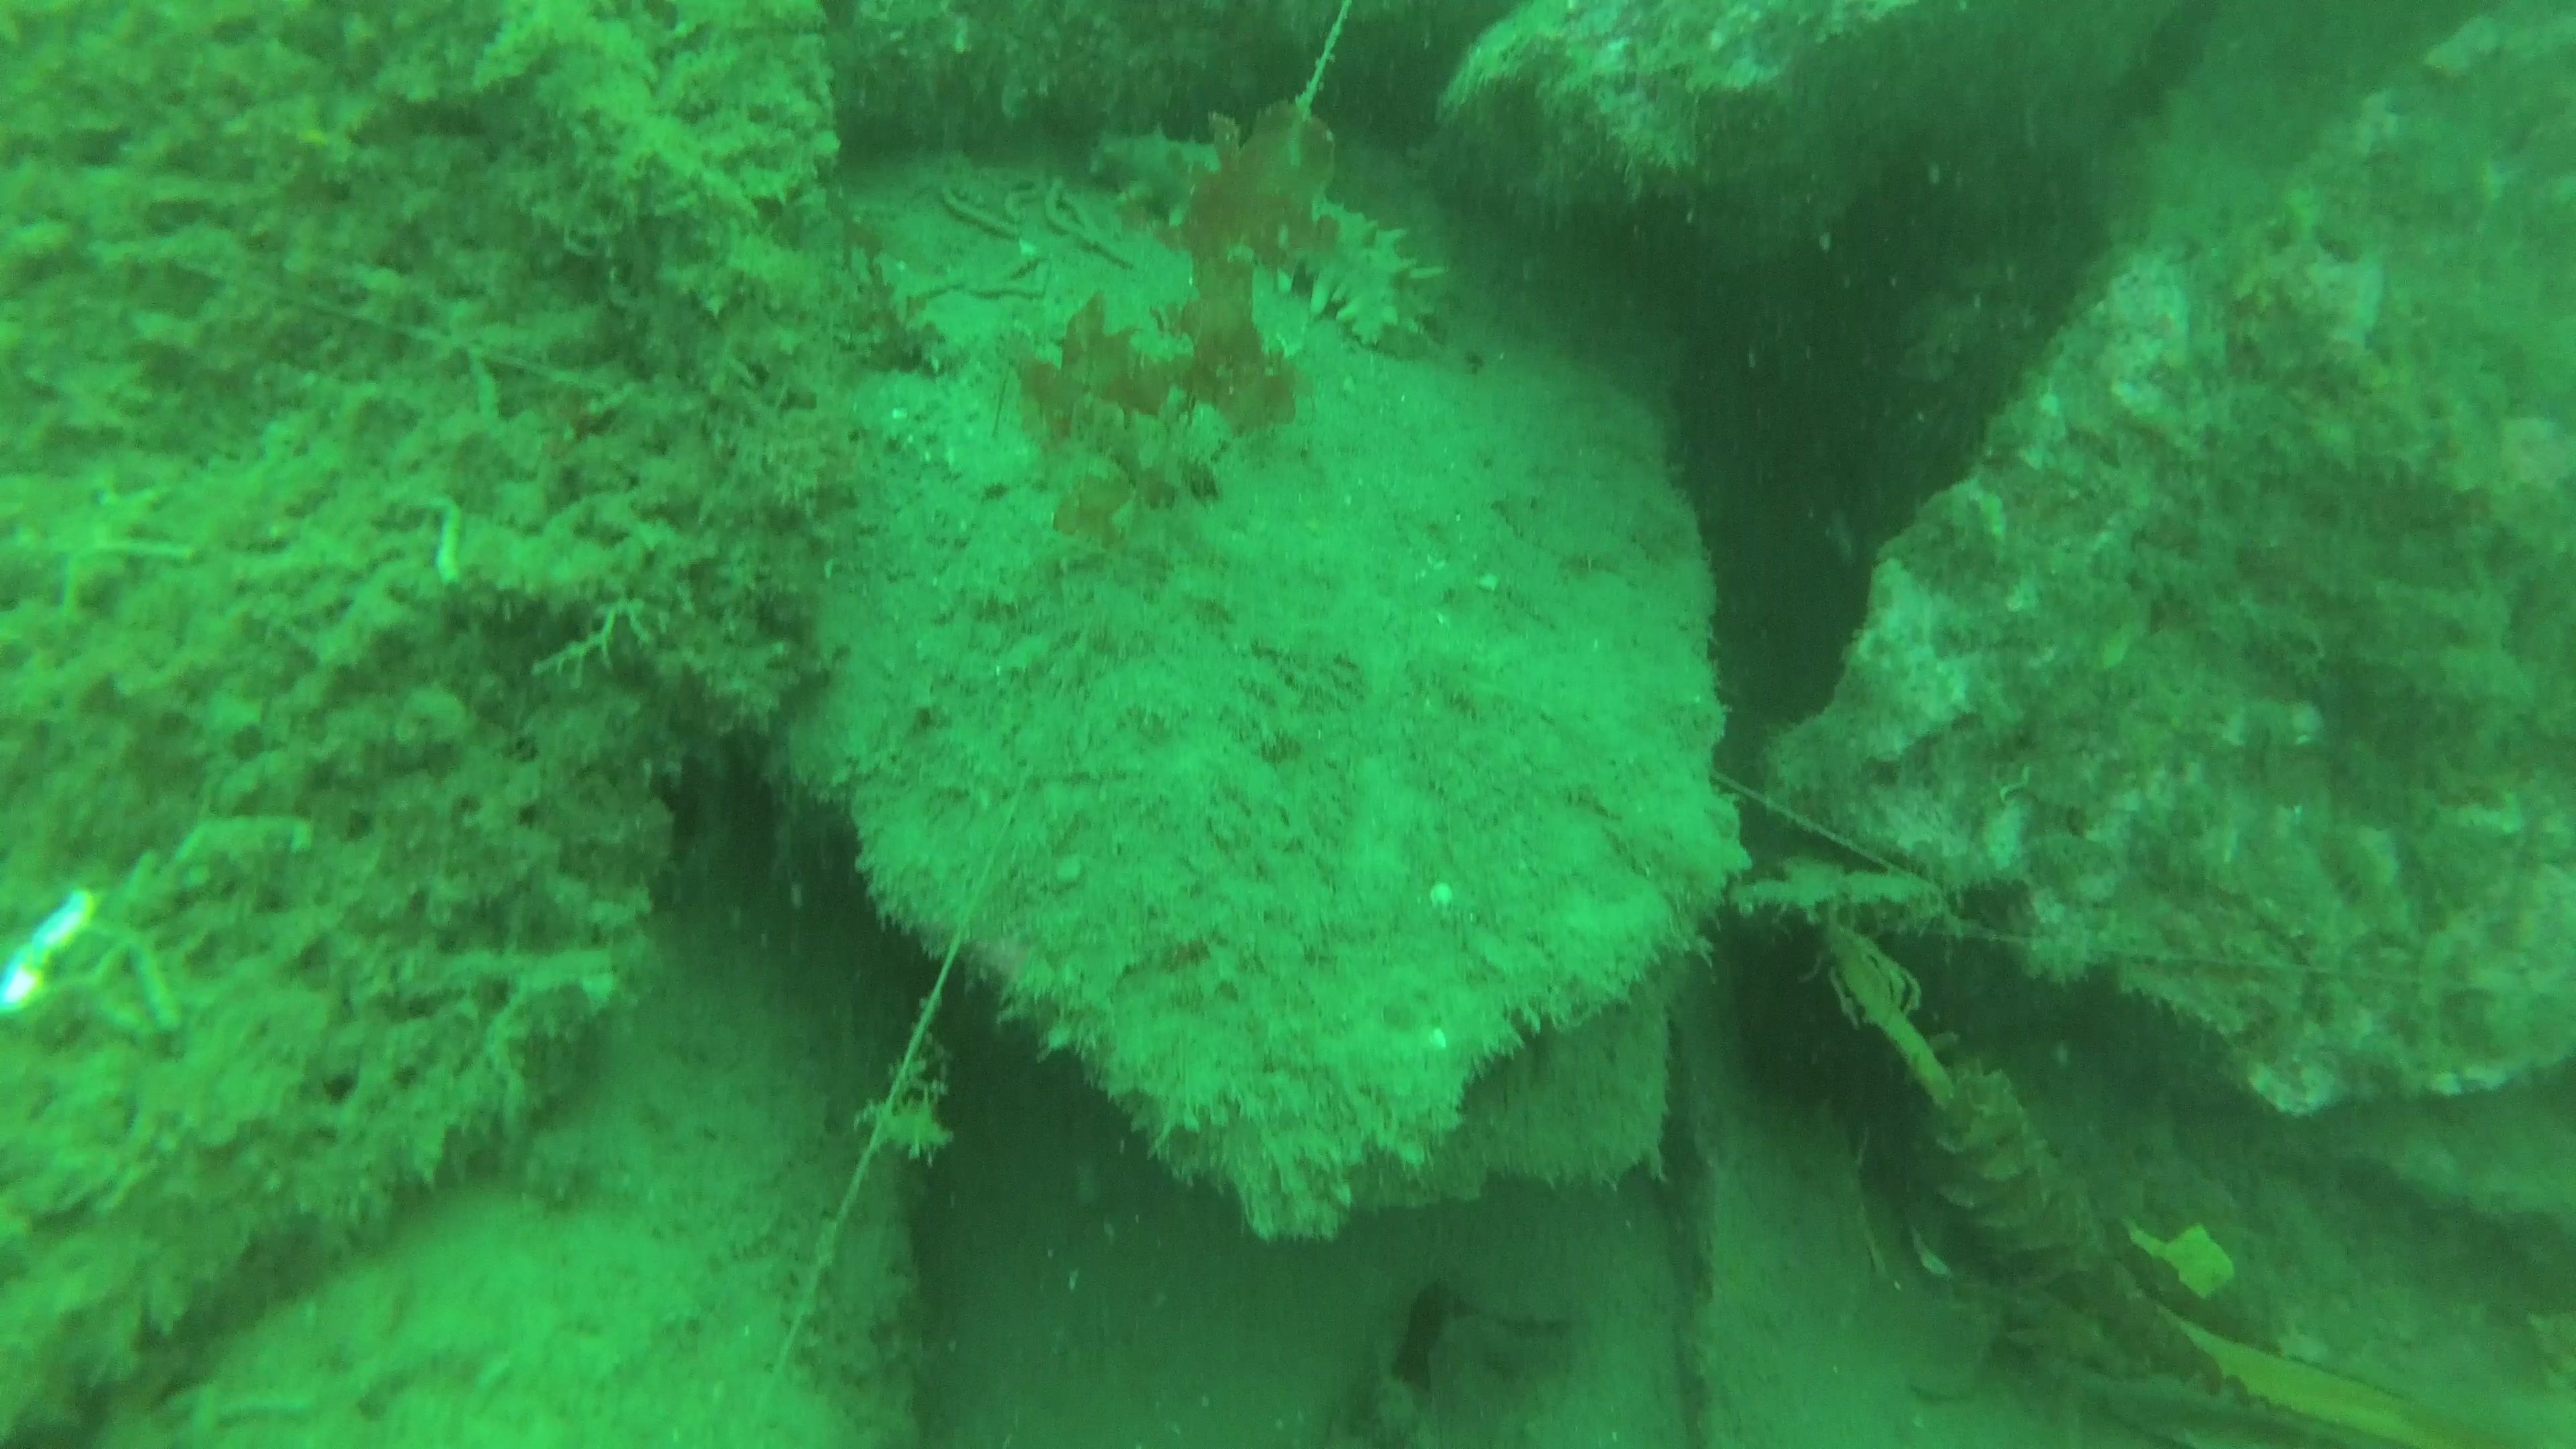holothurian: (1088, 124, 1451, 356)
